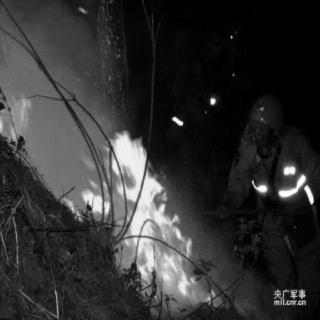other: (170, 111, 190, 138), (205, 90, 217, 114)
